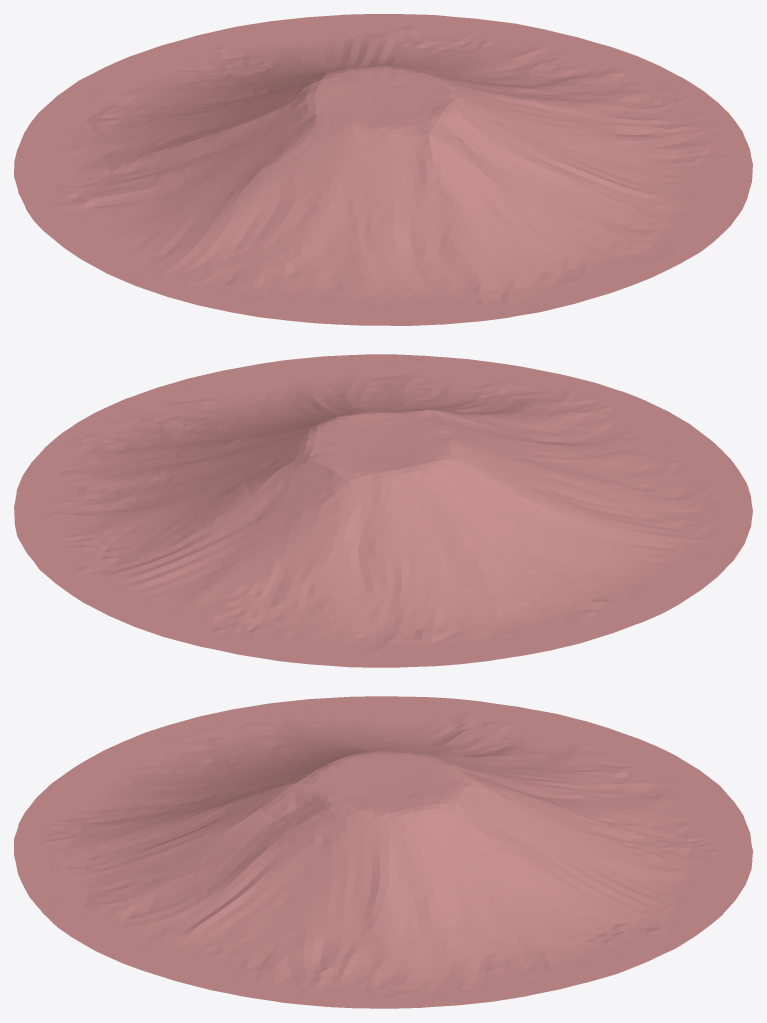
File: level_2.glb
3 renders of one model, top to bottom at view 1: azimuth 30°, elevation 25°; view 2: azimuth 150°, elevation 25°; view 3: azimuth 270°, elevation 25°, orthographic.
Visible parts, largest first — view 1: world; view 2: world; view 3: world.
Boxes of the visible parts, box(x1,y1,x2,y2) form: world: box(14, 14, 752, 325); world: box(14, 354, 752, 667); world: box(14, 696, 752, 1008).
Bounding box in the file's own units: 0.6278 × 0.0668 × 0.6272.
